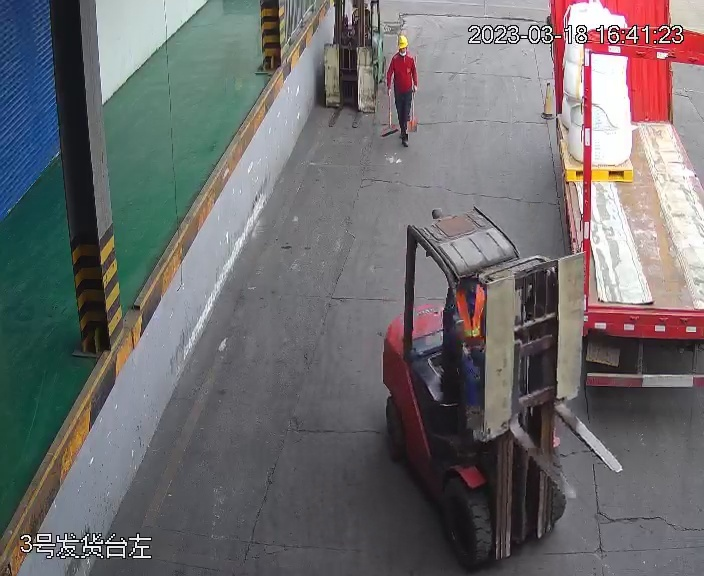head: (390, 33, 416, 65)
helmet: (396, 32, 410, 48)
people: (385, 31, 420, 145)
truck: (539, 1, 704, 393)
